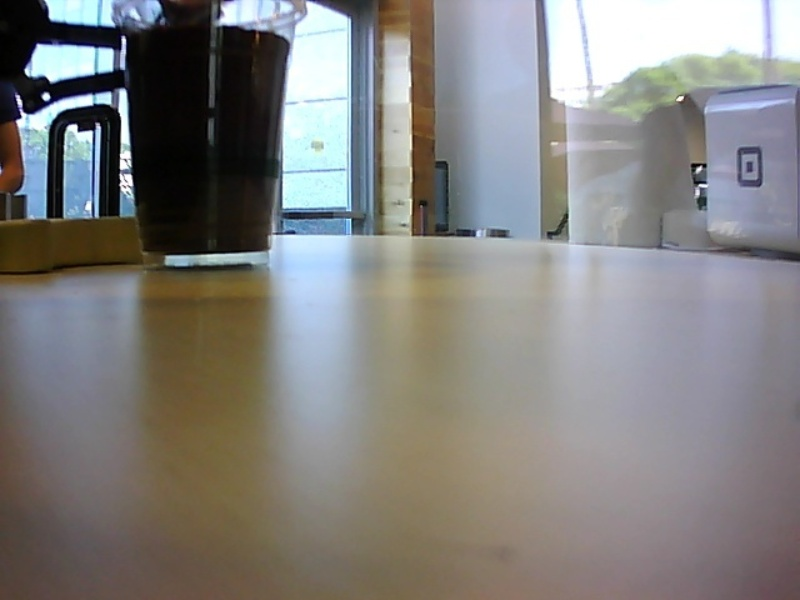cup: (100, 1, 310, 274)
limit: (127, 16, 298, 44)
